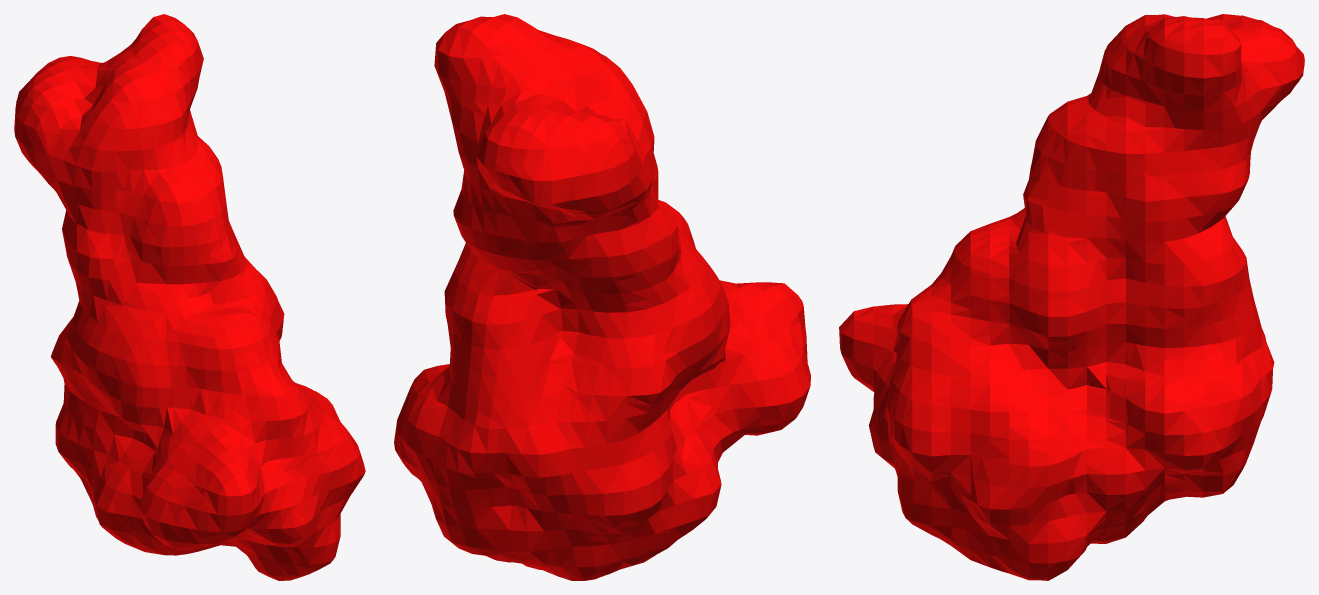
File: psd_coarse.dae
3 renders of one model, left to right at view 1: azimuth 30°, elevation 25°; view 2: azimuth 150°, elevation 25°; view 3: azimuth 270°, elevation 25°, orthographic. The views are drawn at different scales.
Visible parts, largest first — view 1: psd; view 2: psd; view 3: psd.
Part boxes in pixels (left/top/right/bottom): psd: left=14, top=14, right=365, bottom=580; psd: left=394, top=14, right=810, bottom=580; psd: left=839, top=14, right=1304, bottom=580.
Size of the model in its own units: 40.43 by 79.55 by 63.16.
